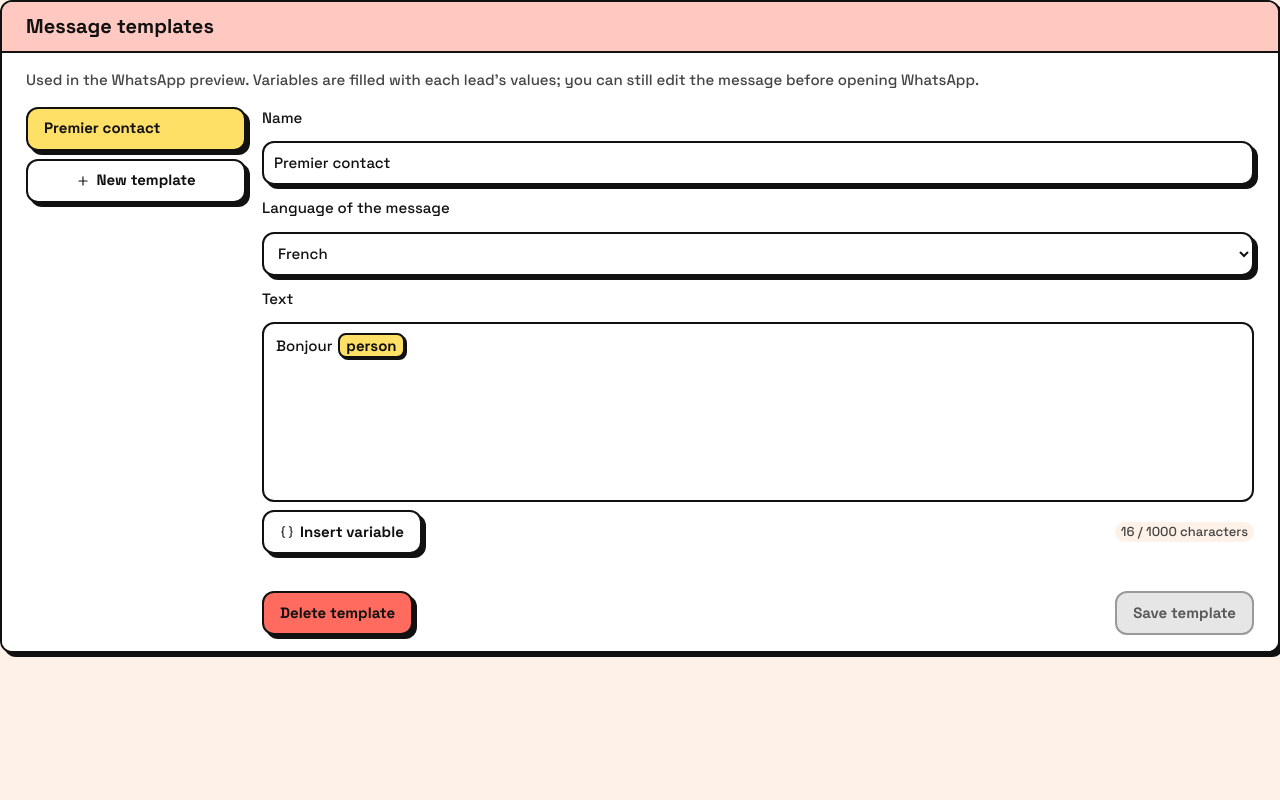
Test: TemplatesCard › lists the templates, edits one and saves it
The width and height of the screenshot is (1280, 800).
Check: the button "Save template" is disabled, box [1115,591,1254,635]
Replace the text in the field labelled "Name" with "Premier" at (758, 163), box [262,141,1254,185]
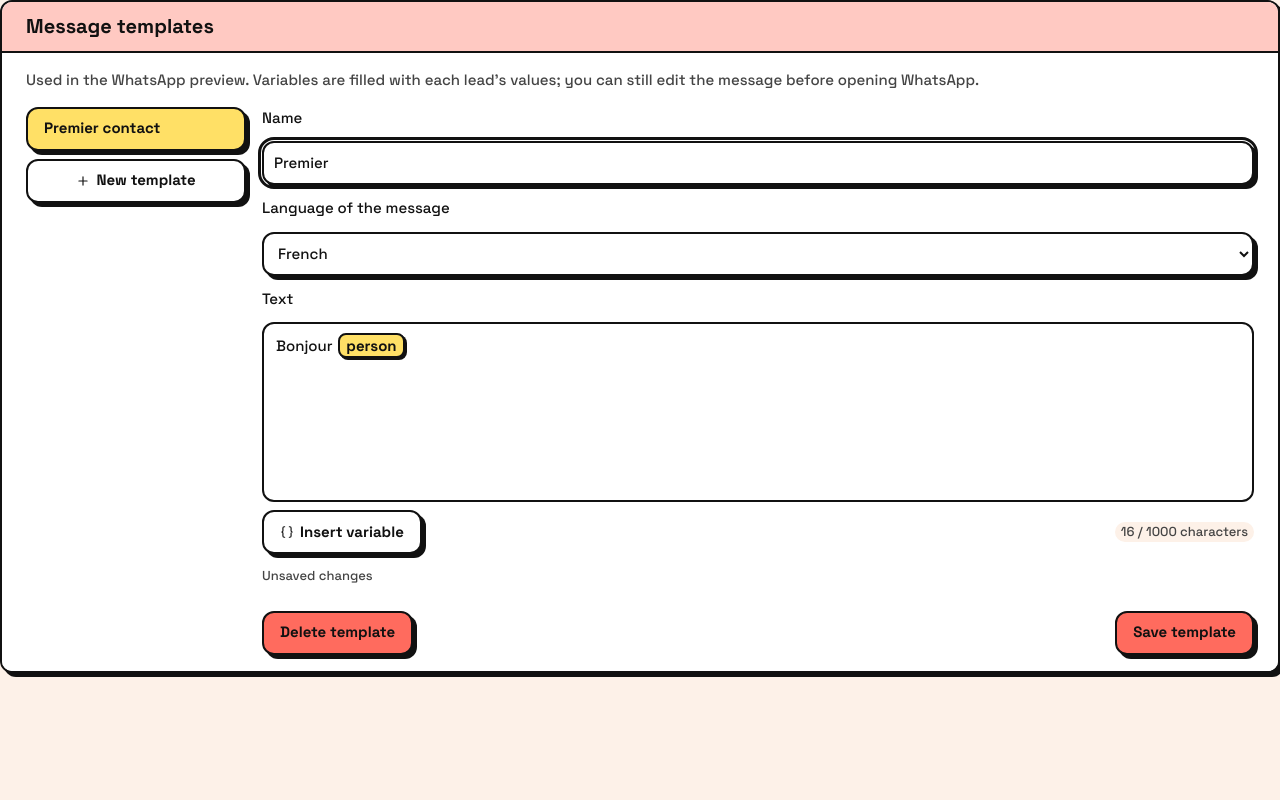
Click the button "Save template" at (1185, 632), box [1115,610,1254,654]
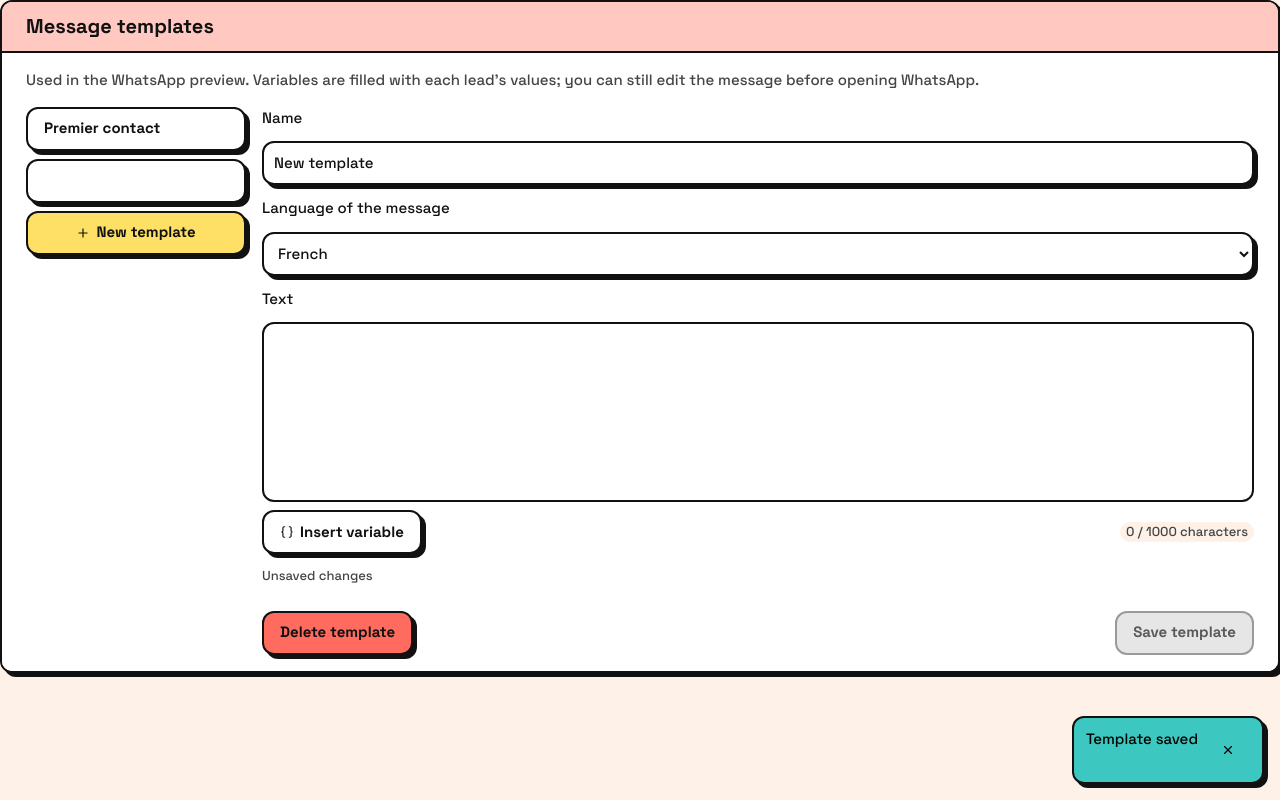
Check: the text "Template saved" is shown, box [1086,728,1198,750]
